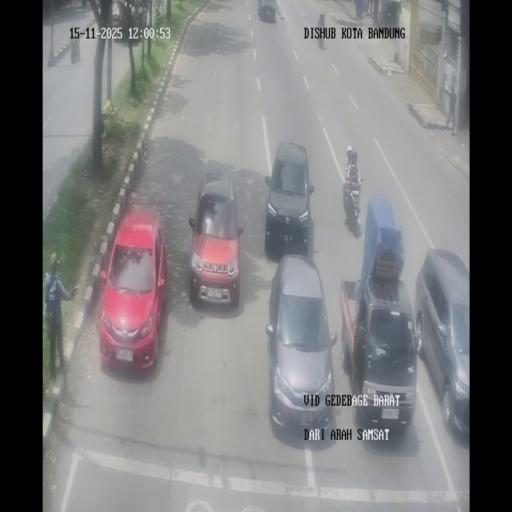car: (341, 271, 418, 435), (267, 254, 336, 436), (98, 210, 168, 373), (414, 252, 470, 440), (257, 0, 276, 22)
motorcycle: (342, 151, 362, 228), (317, 12, 326, 49)
